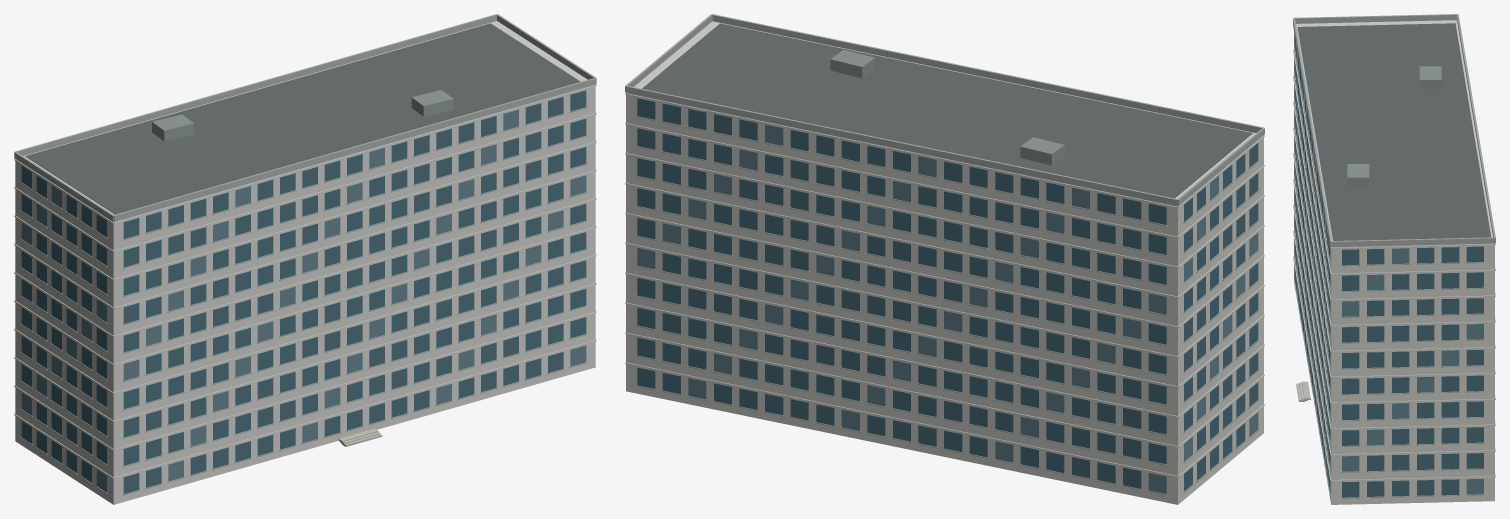
File: 软件园与科创楼-011.glb
3 views of the same model, side by side, from view 1: azimuth 30°, elevation 25°; view 2: azimuth 150°, elevation 25°; view 3: azimuth 270°, elevation 25° (orthographic). The views are drawn at different scales.
Parts seen in each view (by area): view 1: 软件园与科创楼-011; view 2: 软件园与科创楼-011; view 3: 软件园与科创楼-011.
Part boxes in pixels (x1,y1,x2,y2): 软件园与科创楼-011: (14,14,596,504); 软件园与科创楼-011: (625,14,1264,504); 软件园与科创楼-011: (1293,14,1495,504).
Size of the model in its own units: 68.17 by 37.42 by 25.65.
